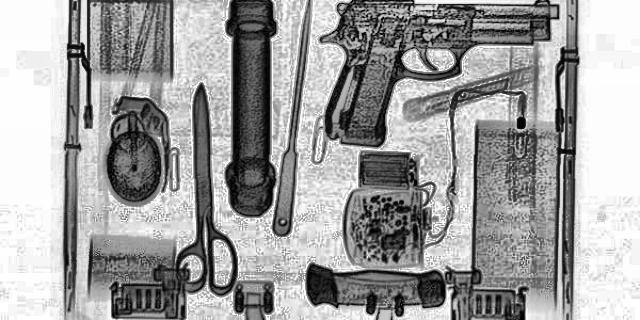Gun: (316, 1, 560, 148)
Knife: (168, 81, 240, 302)
